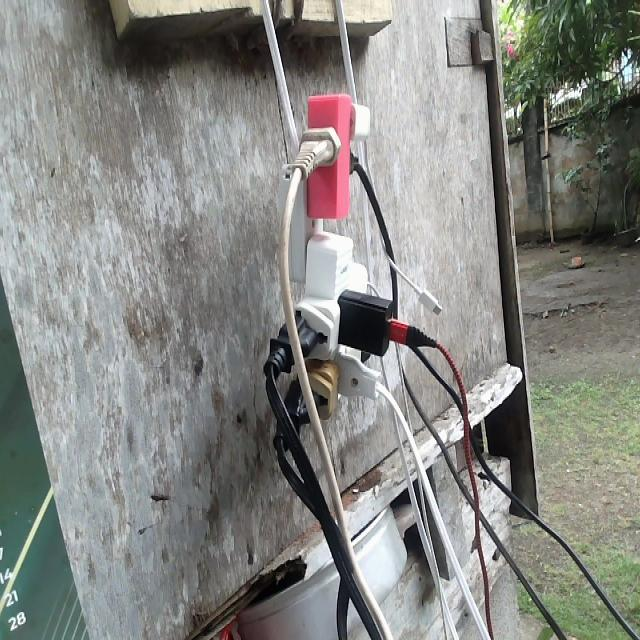-: (263, 92, 421, 452)
